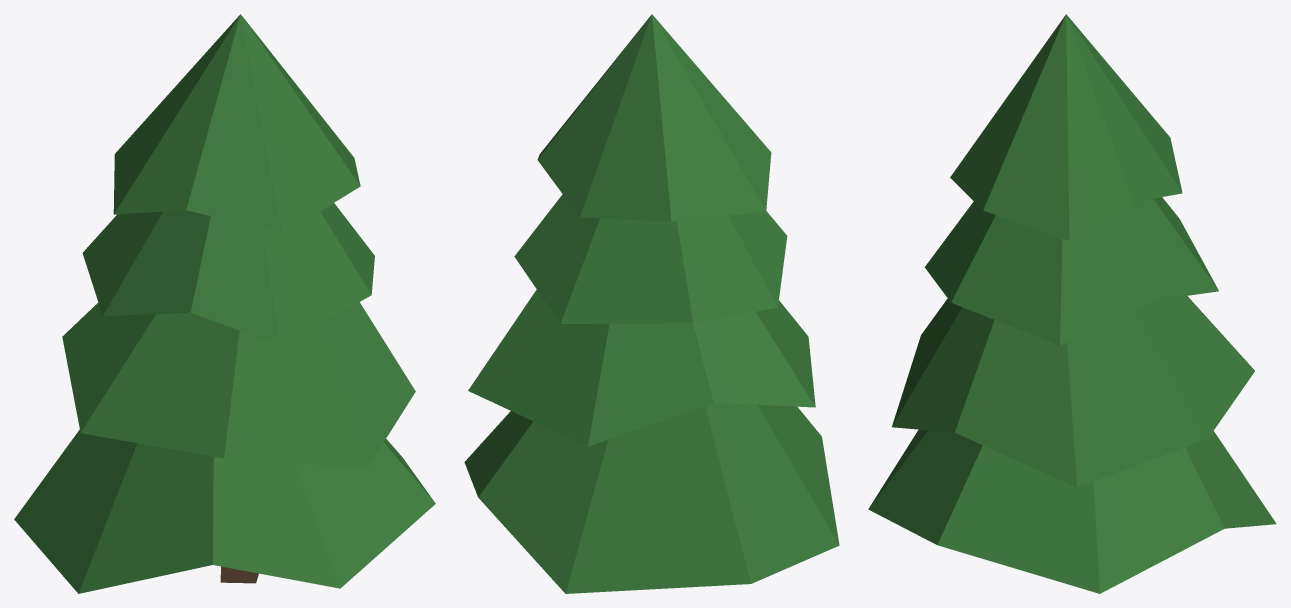
The model's file is Forest_004.fbx.
The picture shows the model from 3 angles, left to right: view 1: azimuth 30°, elevation 25°; view 2: azimuth 150°, elevation 25°; view 3: azimuth 270°, elevation 25°; orthographic projection. The views are drawn at different scales.
Parts seen in each view (by area): view 1: Forest_004; view 2: Forest_004; view 3: Forest_004.
Part boxes in pixels (<box>): Forest_004: <box>14,14,435,593</box>; Forest_004: <box>464,14,839,593</box>; Forest_004: <box>868,14,1276,593</box>.
Bounding box in the file's own units: 800 × 1200 × 800.
